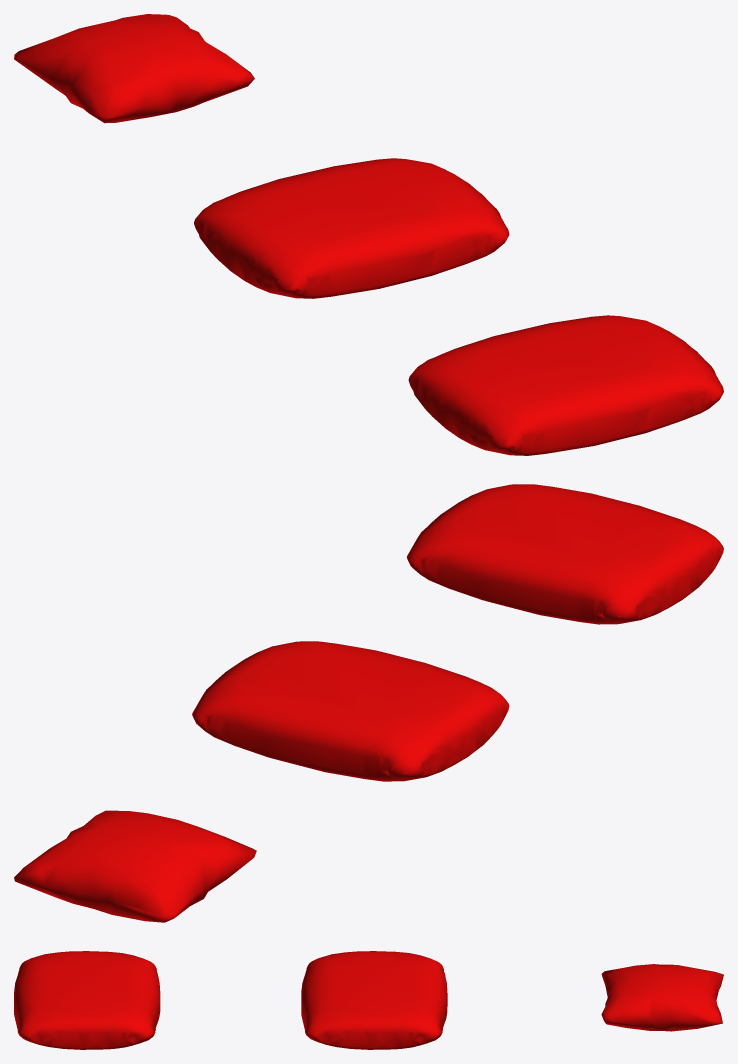
Rendered from thorkea_pillows_grp.fbx.
The picture shows the model from 3 angles, top to bottom: view 1: azimuth 30°, elevation 25°; view 2: azimuth 150°, elevation 25°; view 3: azimuth 270°, elevation 25°; orthographic projection. The views are drawn at different scales.
Parts seen in each view (by area): view 1: thorkea_pillow_dvala, thorkea_pillow_sanglarka_1, thorkea_pillow_sanglarka_2; view 2: thorkea_pillow_dvala, thorkea_pillow_sanglarka_1, thorkea_pillow_sanglarka_2; view 3: thorkea_pillow_sanglarka_1, thorkea_pillow_dvala, thorkea_pillow_sanglarka_2.
Boxes of the visible parts, bbox=[...] form: thorkea_pillow_dvala: bbox=[408, 315, 723, 455]; thorkea_pillow_sanglarka_1: bbox=[194, 158, 509, 298]; thorkea_pillow_sanglarka_2: bbox=[14, 14, 254, 123]; thorkea_pillow_dvala: bbox=[406, 484, 723, 624]; thorkea_pillow_sanglarka_1: bbox=[192, 641, 509, 781]; thorkea_pillow_sanglarka_2: bbox=[14, 810, 256, 922]; thorkea_pillow_sanglarka_1: bbox=[301, 951, 447, 1049]; thorkea_pillow_dvala: bbox=[14, 951, 160, 1049]; thorkea_pillow_sanglarka_2: bbox=[601, 964, 723, 1031].
Bounding box in the file's own units: 67.31 × 15.67 × 247.
